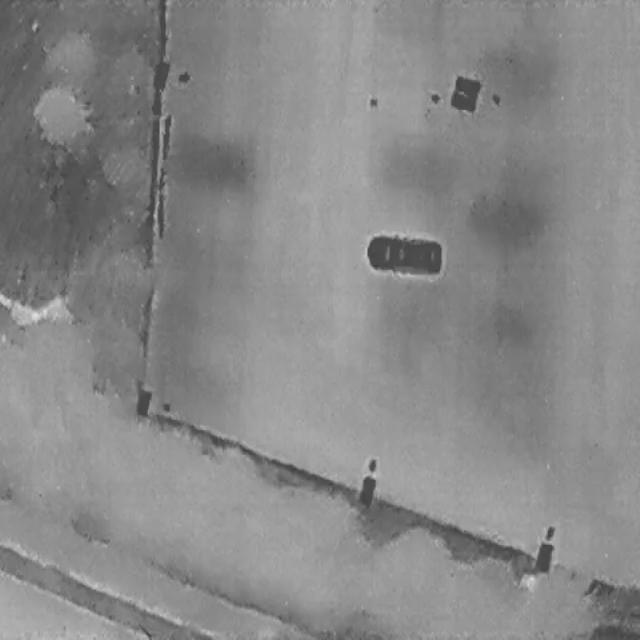Car: (365, 229, 442, 276)
